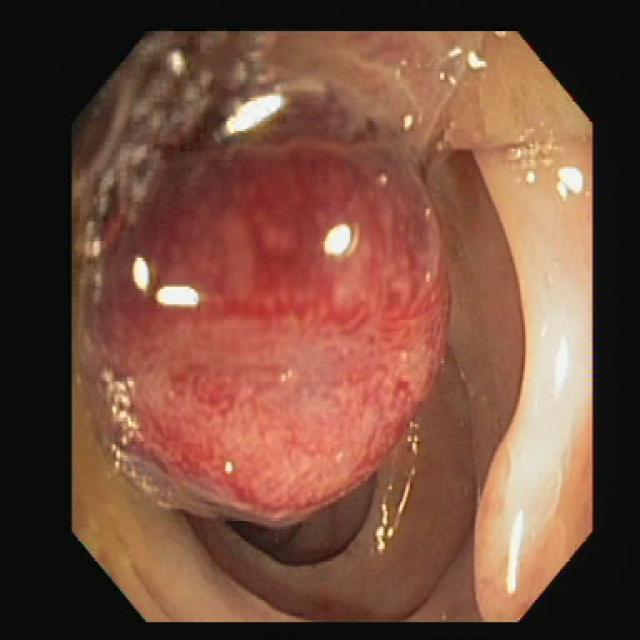tumor: (93, 138, 447, 522), (475, 444, 527, 616)
